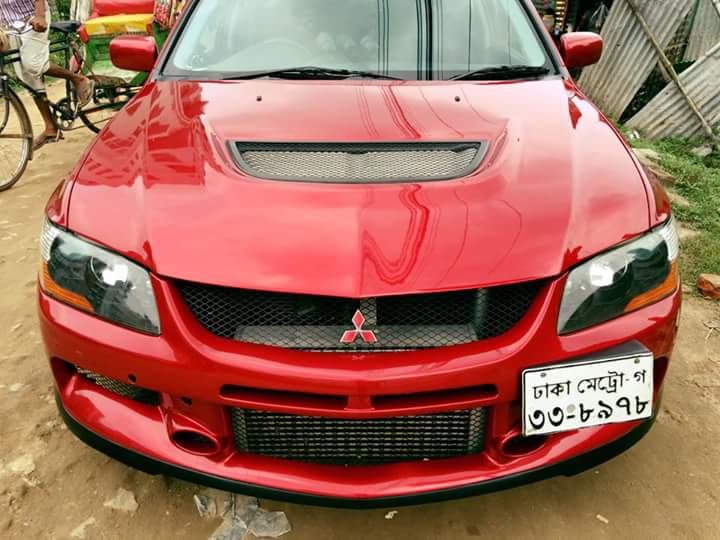registration_plate: (521, 352, 654, 437)
